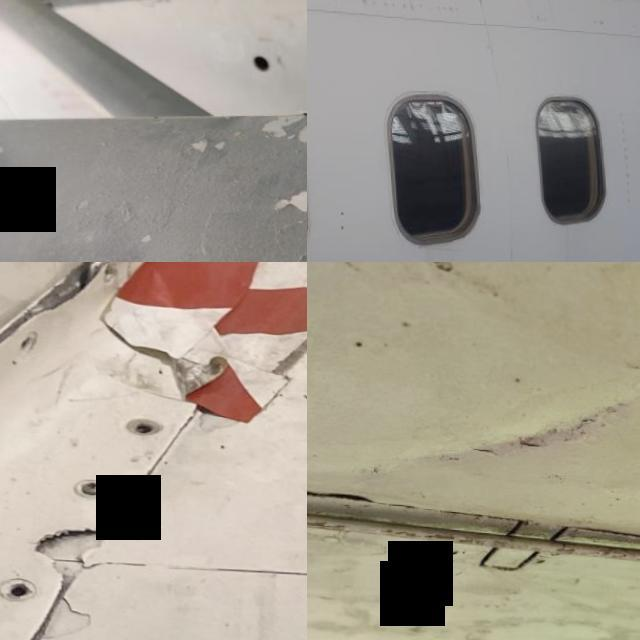Crack: (0, 262, 296, 329), (17, 510, 127, 580)
Dent: (374, 331, 640, 501)
Missing_Fastener: (124, 412, 160, 434), (0, 580, 27, 598)
